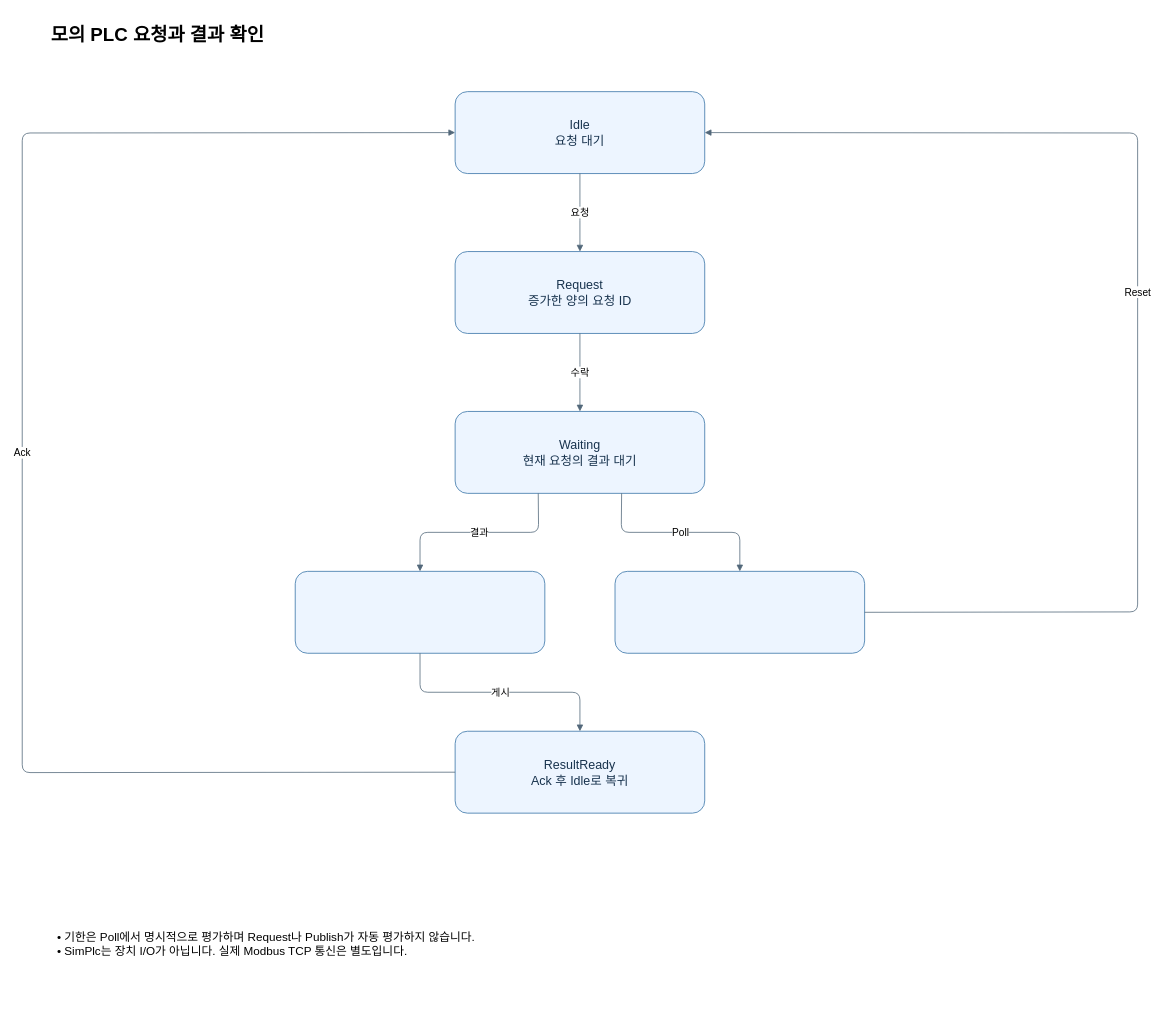
Image size: 1164x1025. Some labels were removed from this diagram. The box of each missing label's shape, as (x1, y1, x2, y2) in pixels:
Poll / Faulted 시간 초과 시 Faulted; Reset으로 복귀: (614, 571, 865, 653)
Publish 같은 ID와 결과 코드: (294, 571, 545, 653)
